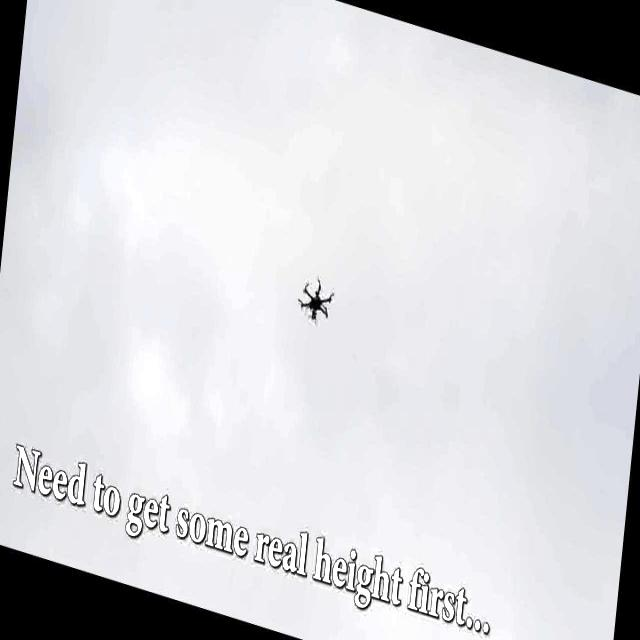drone: (292, 265, 338, 334)
